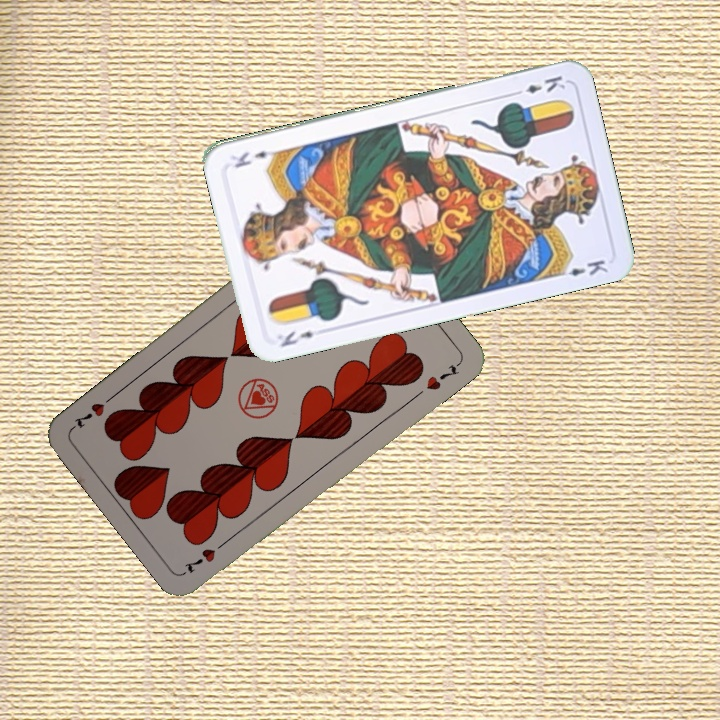EK: (509, 71, 568, 99), (276, 326, 316, 350)
H7: (180, 535, 231, 576)
